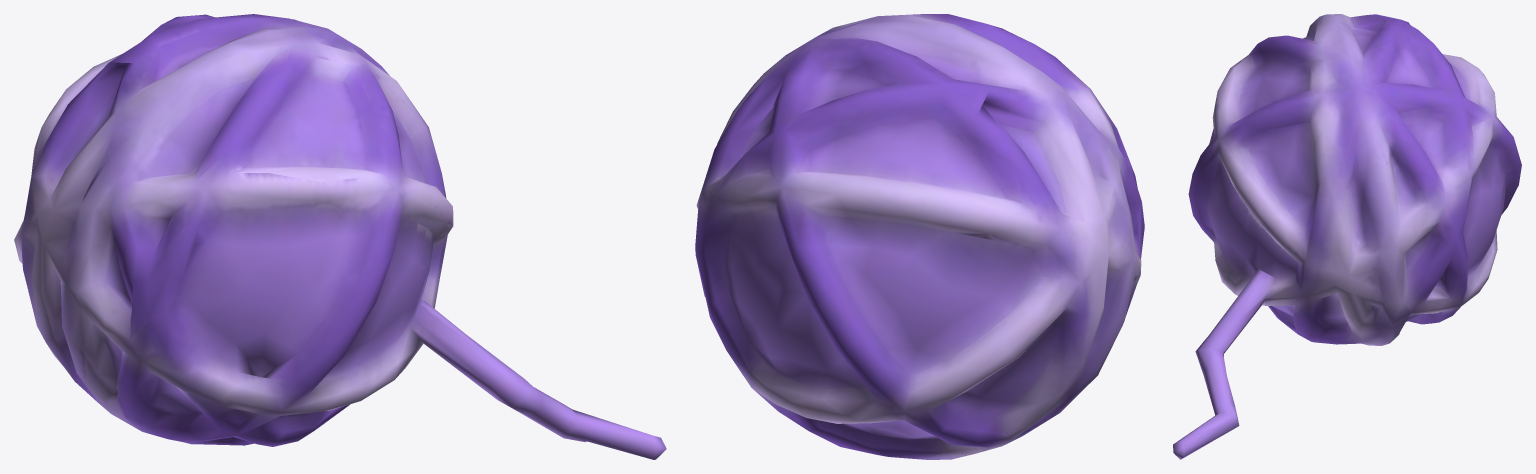
The model's file is item.yarn.glb.
3 views of the same model, side by side, from view 1: azimuth 30°, elevation 25°; view 2: azimuth 150°, elevation 25°; view 3: azimuth 270°, elevation 25° (orthographic). The views are drawn at different scales.
Parts seen in each view (by area): view 1: yarn; view 2: yarn; view 3: yarn.
Boxes of the visible parts, <box> form: yarn: <box>14,14,666,459</box>; yarn: <box>695,14,1144,459</box>; yarn: <box>1173,14,1521,459</box>.
Size of the model in its own units: 0.7637 by 0.6059 by 0.6019.
1 material, 1 textured.
